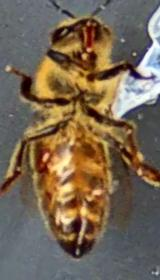varroa_mite: (29, 142, 62, 174)
